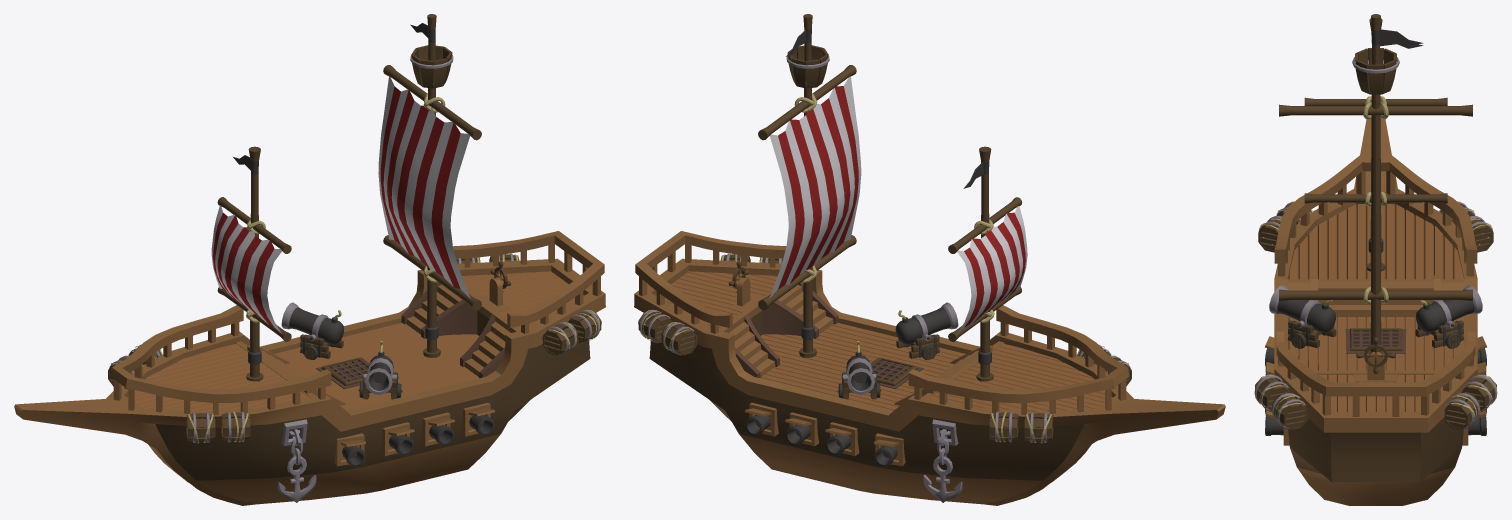
File: Ship-transformed.glb
3 views of the same model, side by side, from view 1: azimuth 30°, elevation 25°; view 2: azimuth 150°, elevation 25°; view 3: azimuth 270°, elevation 25° (orthographic). The views are drawn at different scales.
Parts seen in each view (by area): view 1: Ship_Large; view 2: Ship_Large; view 3: Ship_Large.
Boxes of the visible parts, x1,y1,x2,y2 form: Ship_Large: [14, 14, 605, 505]; Ship_Large: [634, 14, 1225, 505]; Ship_Large: [1254, 14, 1497, 505].
Bounding box in the file's own units: 15.43 × 11.48 × 5.3.
Materials: 1 (1 with a texture image).
